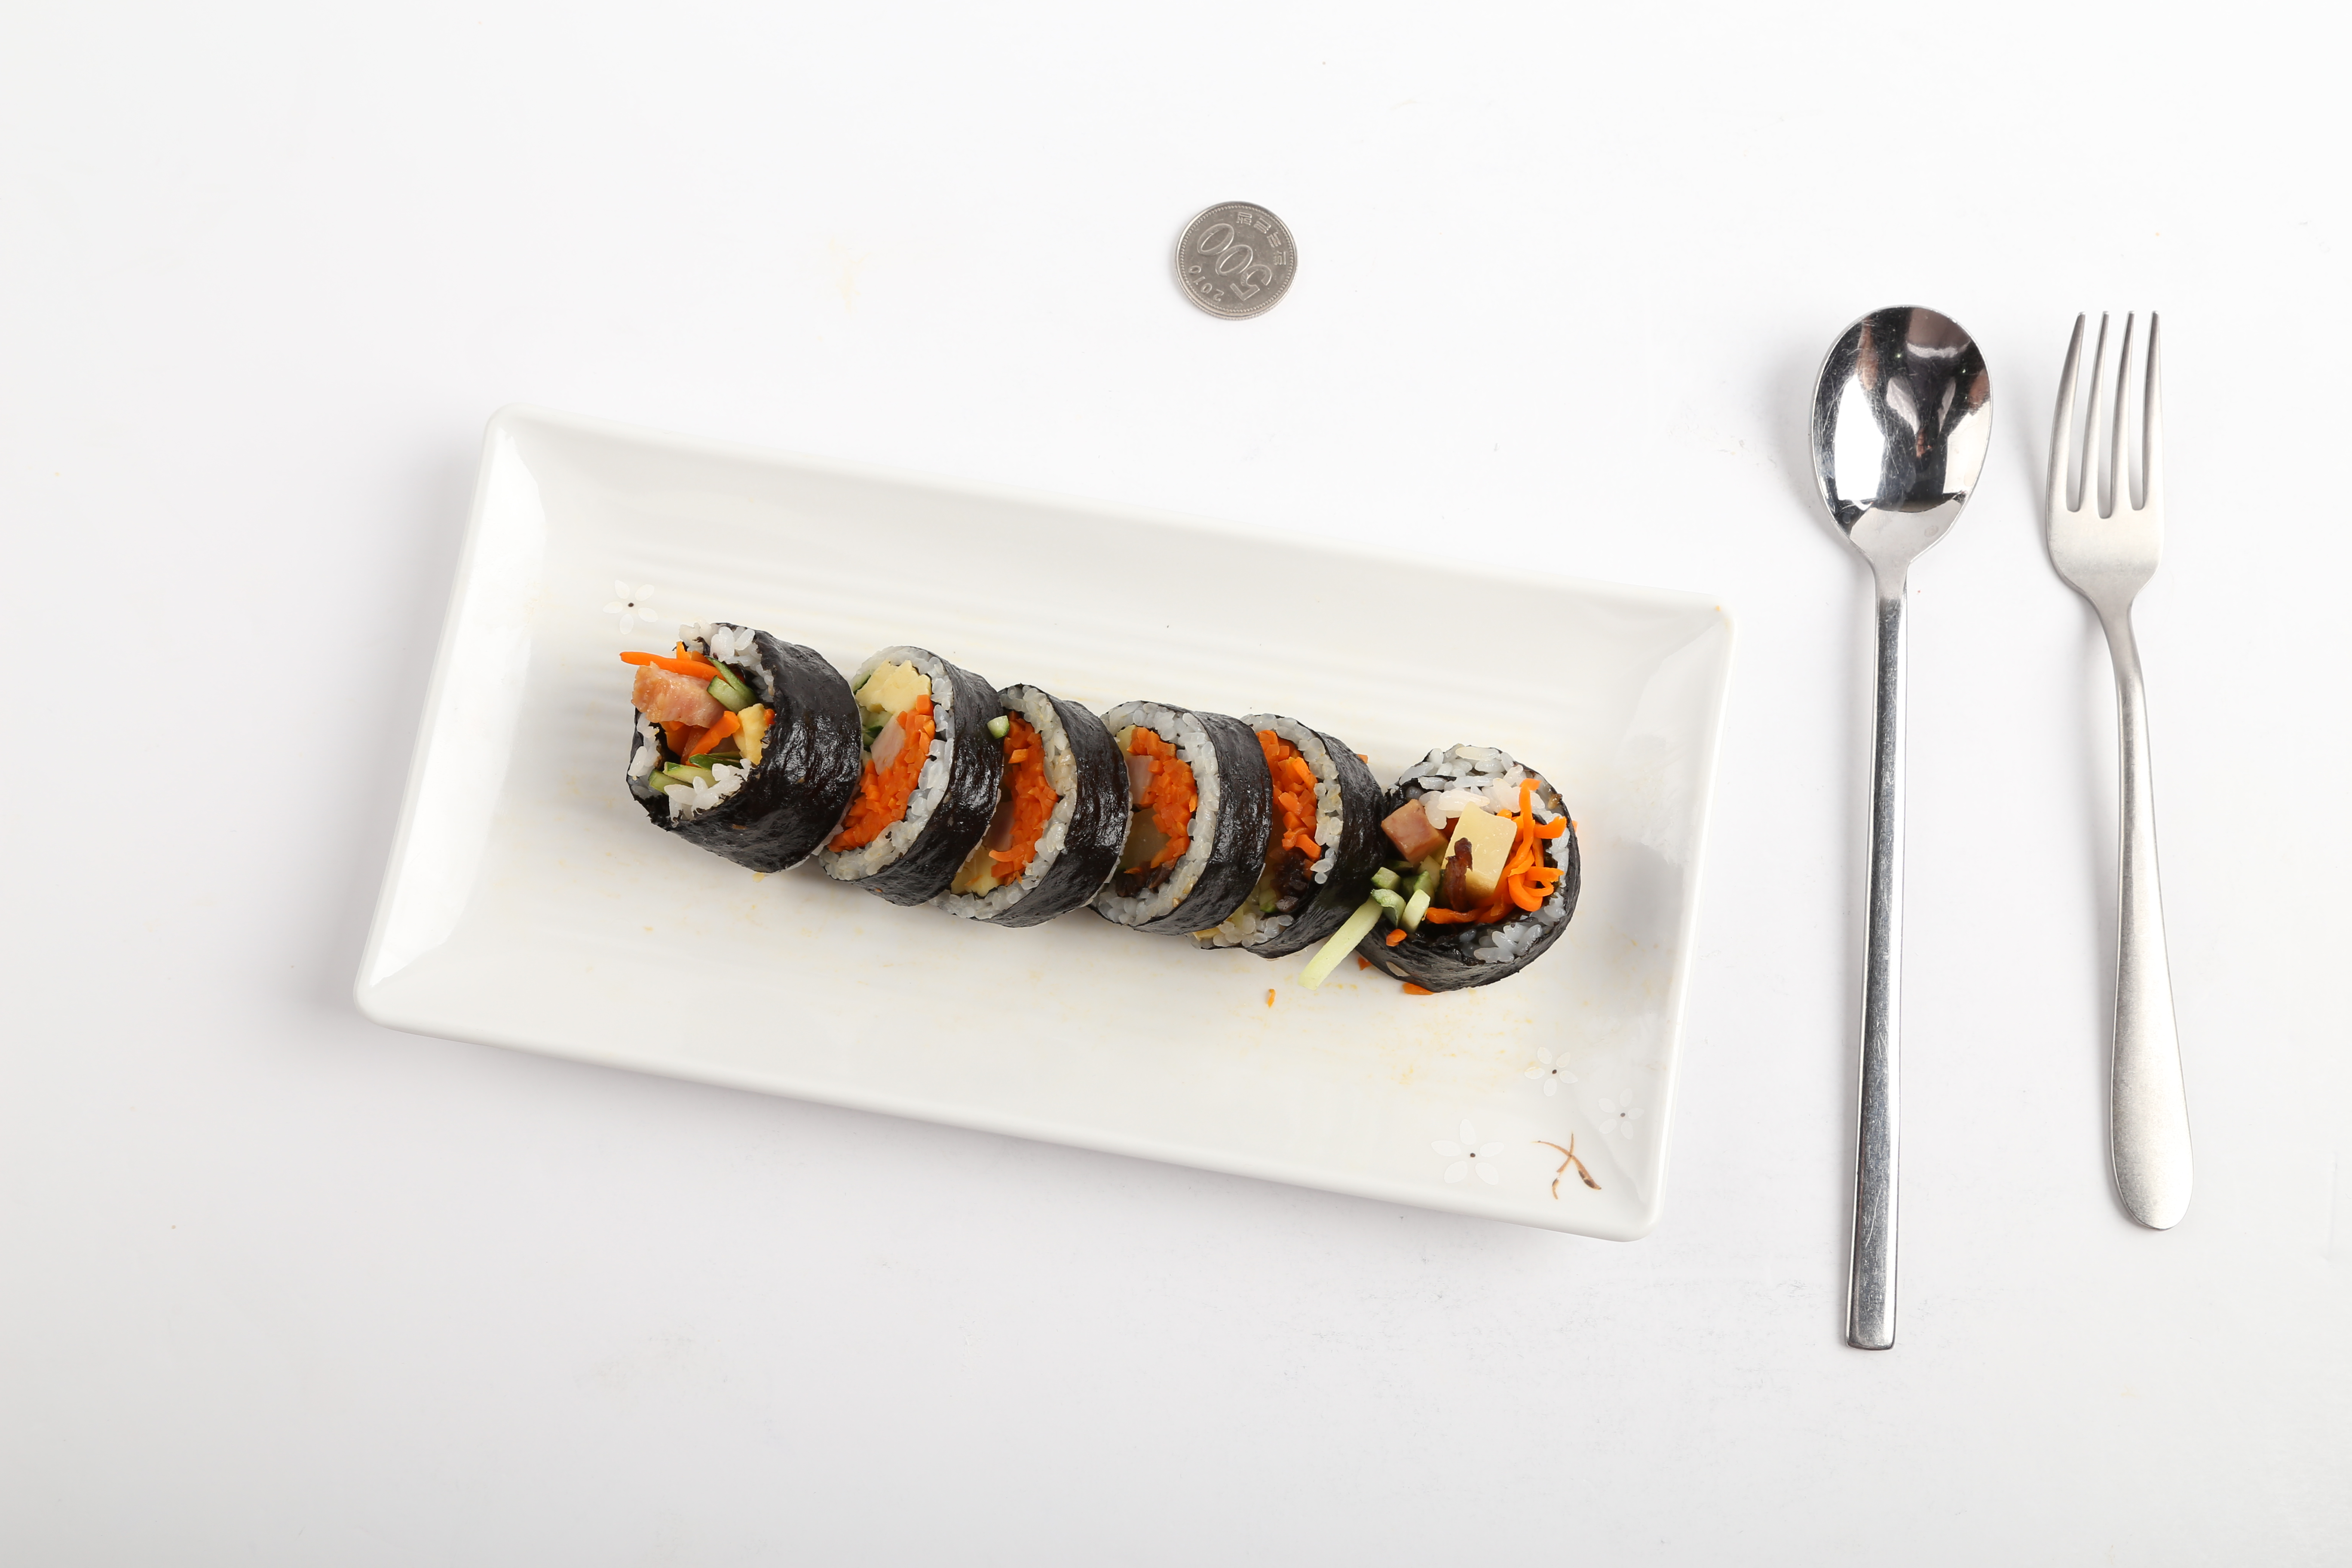dish: (355, 411, 1729, 1242)
ref_coin: (1165, 194, 1298, 325)
ref_fork: (2039, 304, 2170, 670)
ref_spoon: (1801, 297, 1998, 646)
김밥: (618, 623, 1585, 997)
